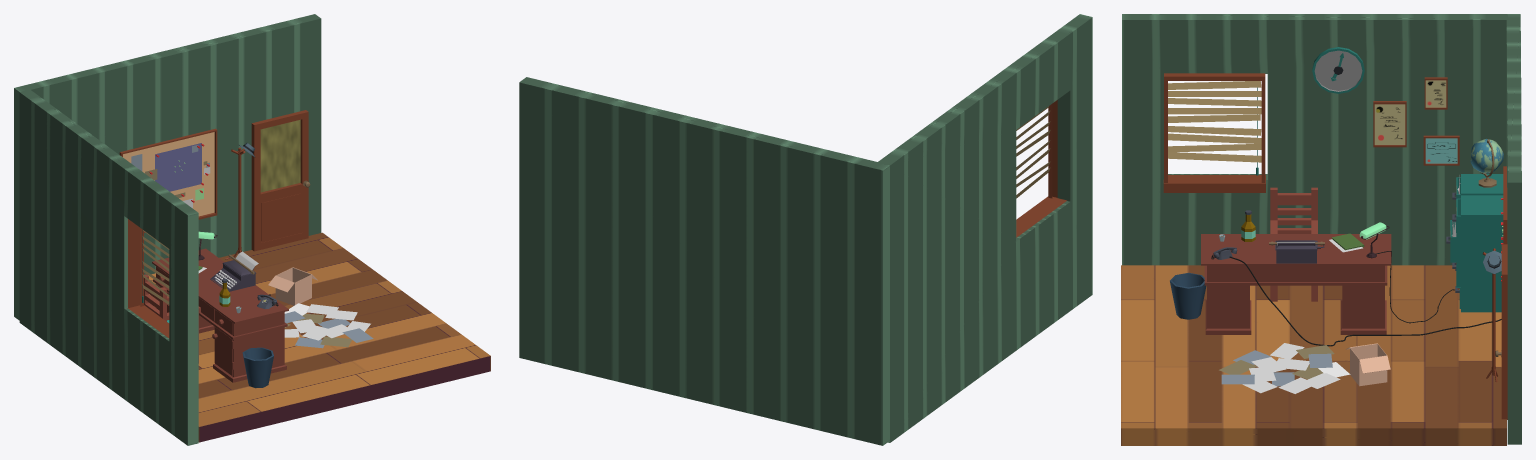
The model's file is isometric-detective-room.fbx.
The picture shows the model from 3 angles, left to right: view 1: azimuth 30°, elevation 25°; view 2: azimuth 150°, elevation 25°; view 3: azimuth 270°, elevation 25°; orthographic projection. The views are drawn at different scales.
Parts seen in each view (by area): view 1: Wall 1_Wall 1_0, Wall 2_Wall 1.001_0, Floor_Floor_0, Table_Table_0, Door_Wood frame_0, Door_Window glass_0, Cube.002_Desk_0, Cube_Wood frame_0, Cube.002_Map_0, Cube.003_Cardboard_0, Bucket_Material_0, Typewriter_Typewriter_0 (+4 smaller); view 2: Wall 2_Wall 1.001_0, Wall 1_Wall 1_0, Cube_Wood frame_0, Cube_Blinders_0; view 3: Wall 1_Wall 1_0, Floor_Floor_0, Table_Table_0, Wall 2_Wall 1.001_0, Cube_Blinders_0, Cabinet 2_Cabinet_0, Cube_Wood frame_0, Chair 2_Chair_0, Circle_Clock_0, Cube.003_Cardboard_0, Bucket_Material_0, Cube.005_Certificate.001_0 (+11 smaller).
Part boxes in pixels (left/top/right/bottom): Wall 1_Wall 1_0: left=19, top=89, right=198, bottom=445; Wall 2_Wall 1.001_0: left=14, top=14, right=321, bottom=320; Floor_Floor_0: left=148, top=232, right=490, bottom=442; Table_Table_0: left=152, top=248, right=288, bottom=382; Door_Wood frame_0: left=251, top=110, right=308, bottom=251; Door_Window glass_0: left=260, top=119, right=300, bottom=192; Cube.002_Desk_0: left=123, top=132, right=214, bottom=216; Cube_Wood frame_0: left=127, top=219, right=169, bottom=338; Cube.002_Map_0: left=155, top=143, right=201, bottom=191; Cube.003_Cardboard_0: left=268, top=267, right=317, bottom=305; Bucket_Material_0: left=242, top=347, right=273, bottom=388; Typewriter_Typewriter_0: left=210, top=257, right=256, bottom=291; Wall 2_Wall 1.001_0: left=519, top=77, right=889, bottom=445; Wall 1_Wall 1_0: left=877, top=14, right=1092, bottom=442; Cube_Wood frame_0: left=1016, top=100, right=1066, bottom=237; Cube_Blinders_0: left=1016, top=106, right=1050, bottom=198; Wall 1_Wall 1_0: left=1122, top=14, right=1507, bottom=265; Floor_Floor_0: left=1121, top=265, right=1506, bottom=445; Table_Table_0: left=1201, top=234, right=1391, bottom=334; Wall 2_Wall 1.001_0: left=1506, top=14, right=1521, bottom=444; Cube_Blinders_0: left=1168, top=81, right=1261, bottom=162; Cabinet 2_Cabinet_0: left=1450, top=195, right=1503, bottom=312; Cube_Wood frame_0: left=1163, top=73, right=1265, bottom=192; Chair 2_Chair_0: left=1270, top=187, right=1317, bottom=301; Circle_Clock_0: left=1314, top=50, right=1362, bottom=91; Cube.003_Cardboard_0: left=1346, top=343, right=1390, bottom=386; Bucket_Material_0: left=1170, top=272, right=1206, bottom=319; Cube.005_Certificate.001_0: left=1374, top=104, right=1405, bottom=144.
Bounding box in the file's own units: 17631 × 12832 × 17657.
